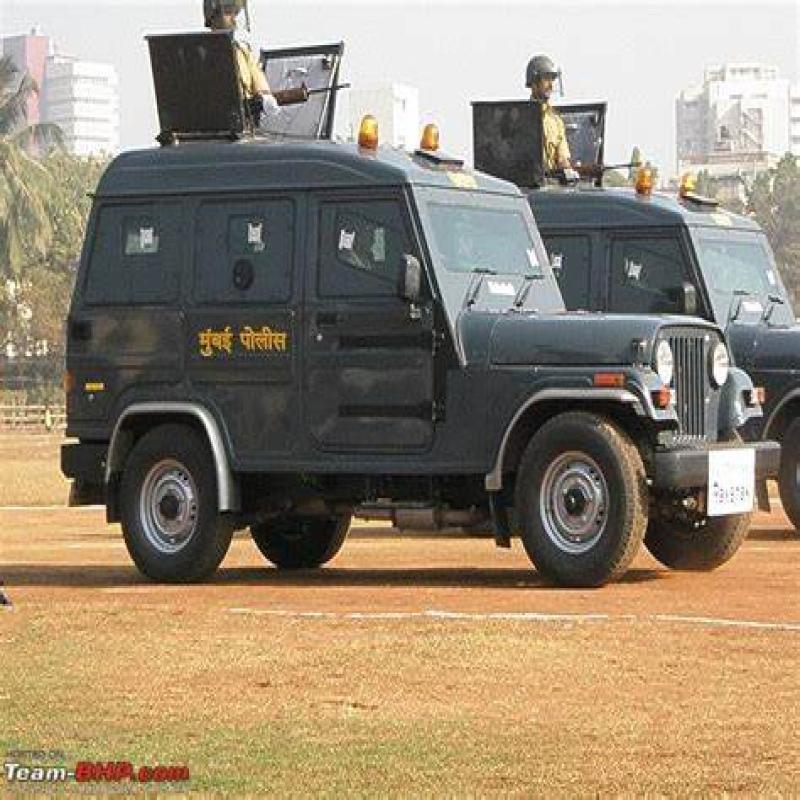AmbulanceSiren: (416, 123, 446, 162), (356, 115, 382, 152), (676, 172, 698, 213), (634, 168, 658, 200)
